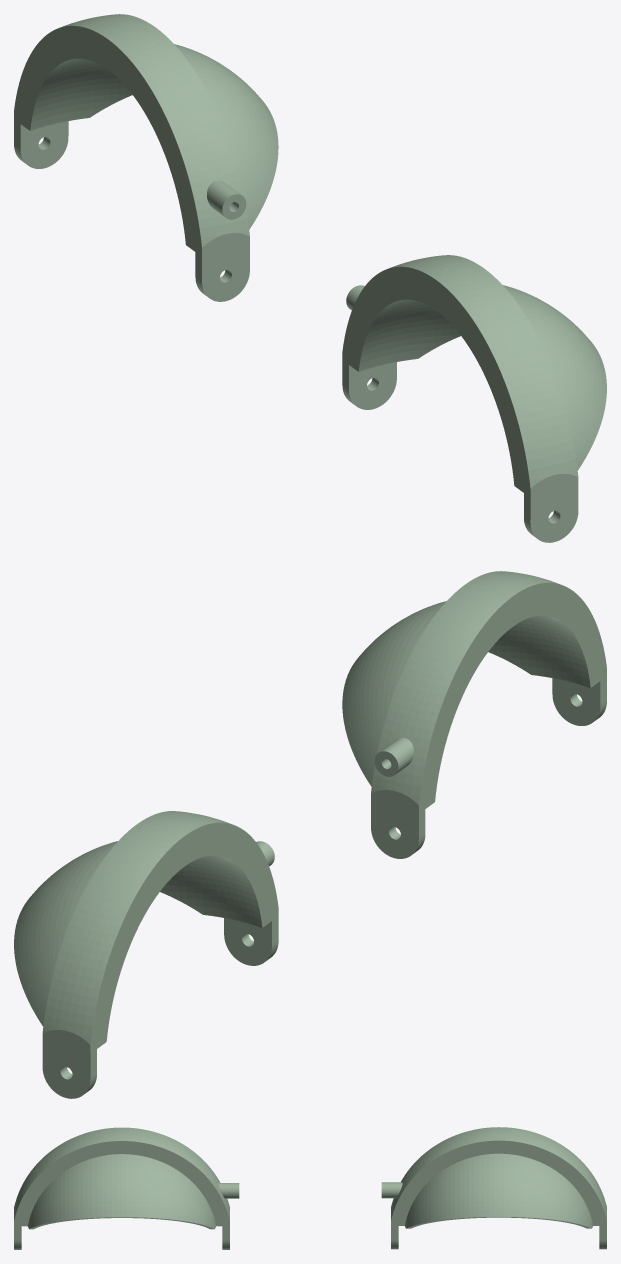
Rendered from up_eyelids.dae.
The picture shows the model from 3 angles, top to bottom: view 1: azimuth 30°, elevation 25°; view 2: azimuth 150°, elevation 25°; view 3: azimuth 270°, elevation 25°; orthographic projection. The views are drawn at different scales.
Visible parts, largest first — view 1: up_eyelids; view 2: up_eyelids; view 3: up_eyelids.
Boxes of the visible parts, box(x1,y1,x2,y2) form: up_eyelids: box(14, 14, 606, 542); up_eyelids: box(14, 571, 606, 1098); up_eyelids: box(14, 1127, 606, 1249).
Bounding box in the file's own units: 0.019 × 0.1181 × 0.0254.
